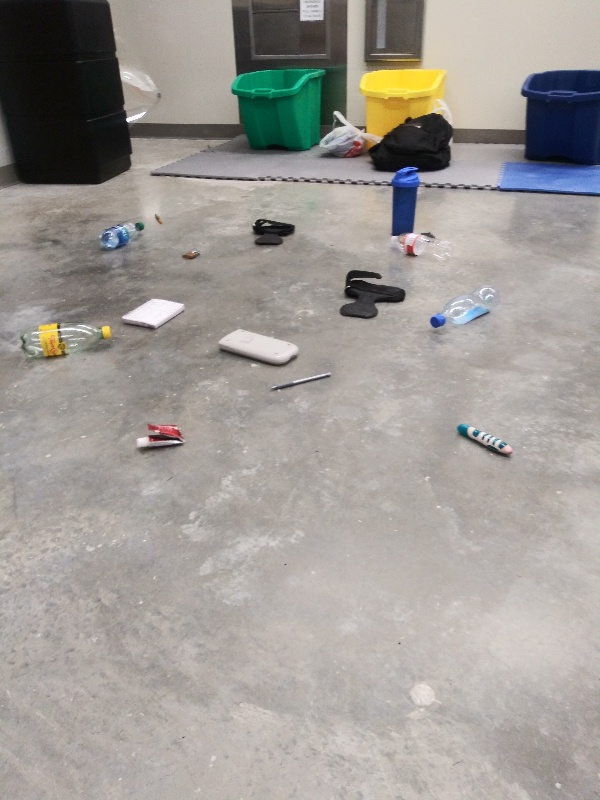bottle: (20, 317, 114, 368), (428, 282, 505, 331), (386, 230, 458, 266), (94, 219, 147, 253)
